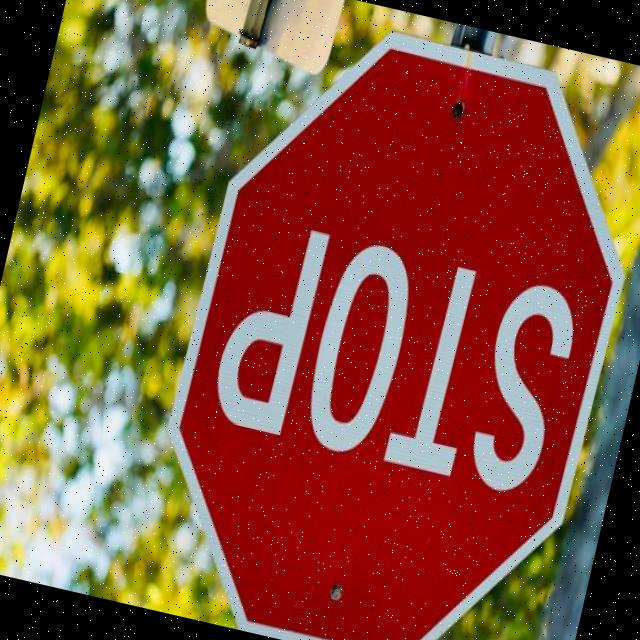stop: (125, 0, 640, 640)
